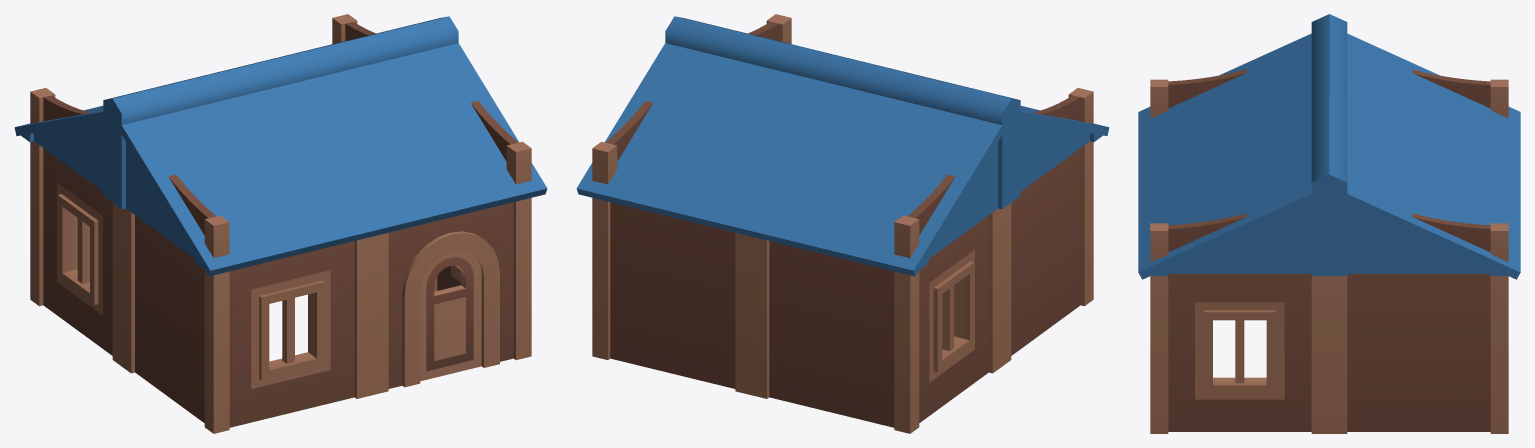
File: cabane-peche-2.glb
3 renders of one model, left to right at view 1: azimuth 30°, elevation 25°; view 2: azimuth 150°, elevation 25°; view 3: azimuth 270°, elevation 25°, orthographic. The views are drawn at different scales.
Visible parts, largest first — view 1: wall-wood-window-shutters, roof; view 2: wall-wood-window-shutters, roof; view 3: roof, wall-wood-window-shutters.
Boxes of the visible parts, box(x1,y1,x2,y2) form: wall-wood-window-shutters: box(30, 14, 531, 433); roof: box(14, 16, 547, 276); wall-wood-window-shutters: box(592, 14, 1093, 433); roof: box(576, 16, 1109, 276); roof: box(1138, 14, 1520, 279); wall-wood-window-shutters: box(1150, 69, 1508, 433).
Bounding box in the file's own units: 6.36 × 4.88 × 6.4.
Materials: 2 (1 with a texture image).
